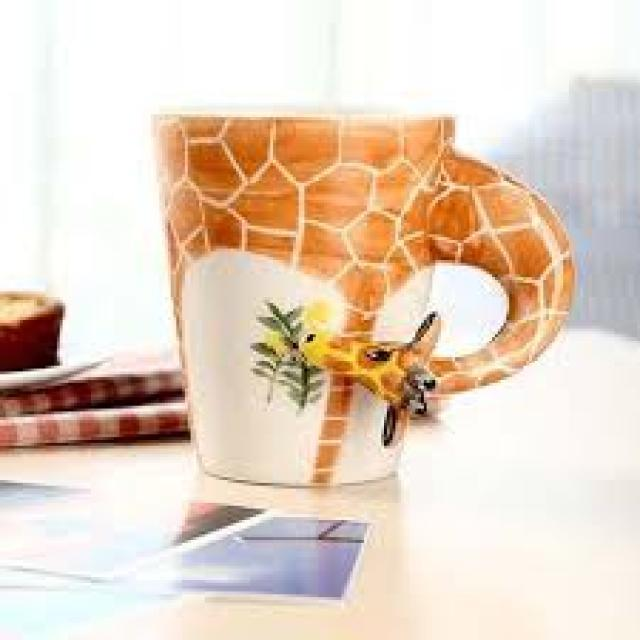taza: (140, 74, 578, 507), (68, 83, 240, 438)
